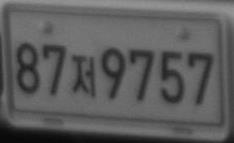5: (159, 51, 184, 103)
7: (187, 51, 214, 106), (128, 49, 154, 101), (42, 44, 66, 95)
8: (15, 41, 40, 94)
9: (100, 47, 125, 99)
저: (70, 54, 96, 97)
